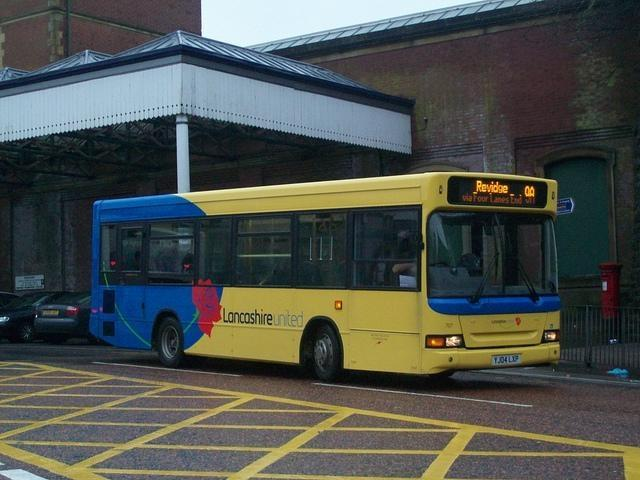bus: (84, 172, 563, 384)
car: (33, 290, 110, 347), (2, 292, 46, 343), (1, 290, 22, 308)
